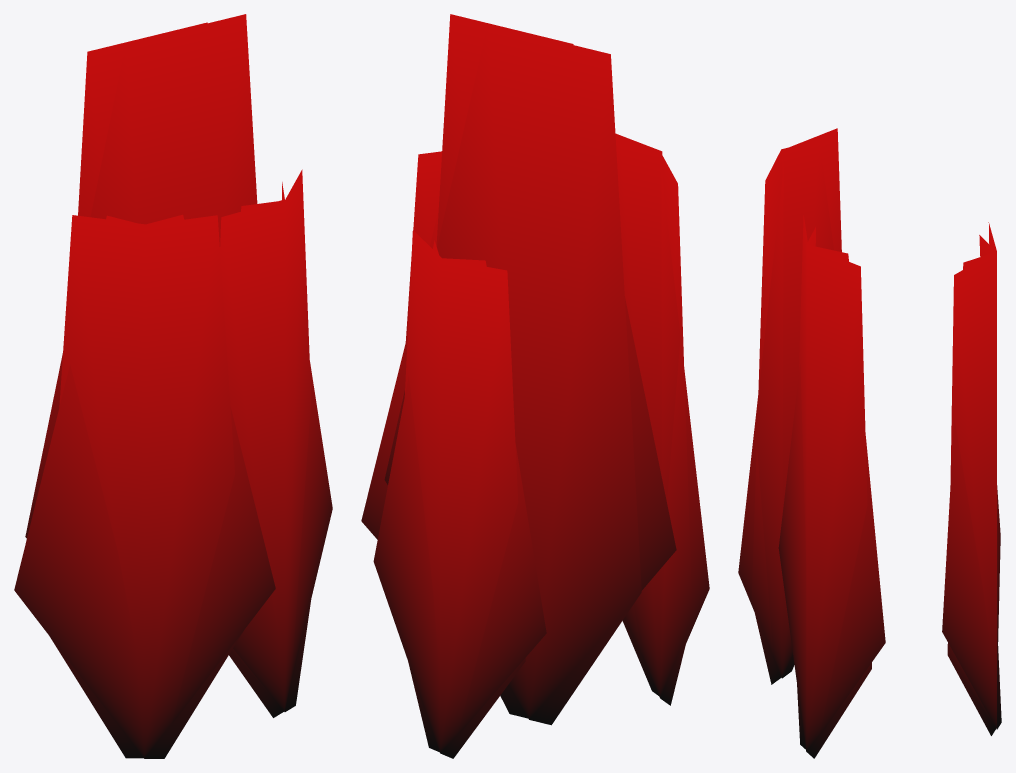
File: SM_Grass_10.fbx
The picture shows the model from 3 angles, left to right: view 1: azimuth 30°, elevation 25°; view 2: azimuth 150°, elevation 25°; view 3: azimuth 270°, elevation 25°; orthographic projection. The views are drawn at different scales.
Visible parts, largest first — view 1: SM_Nature_Grass_10; view 2: SM_Nature_Grass_10; view 3: SM_Nature_Grass_10.
Part boxes in pixels (left/top/right/bottom): SM_Nature_Grass_10: left=14, top=14, right=332, bottom=758; SM_Nature_Grass_10: left=361, top=14, right=709, bottom=758; SM_Nature_Grass_10: left=738, top=128, right=1001, bottom=758.
Bounding box in the file's own units: 19.96 × 38.74 × 13.97.
